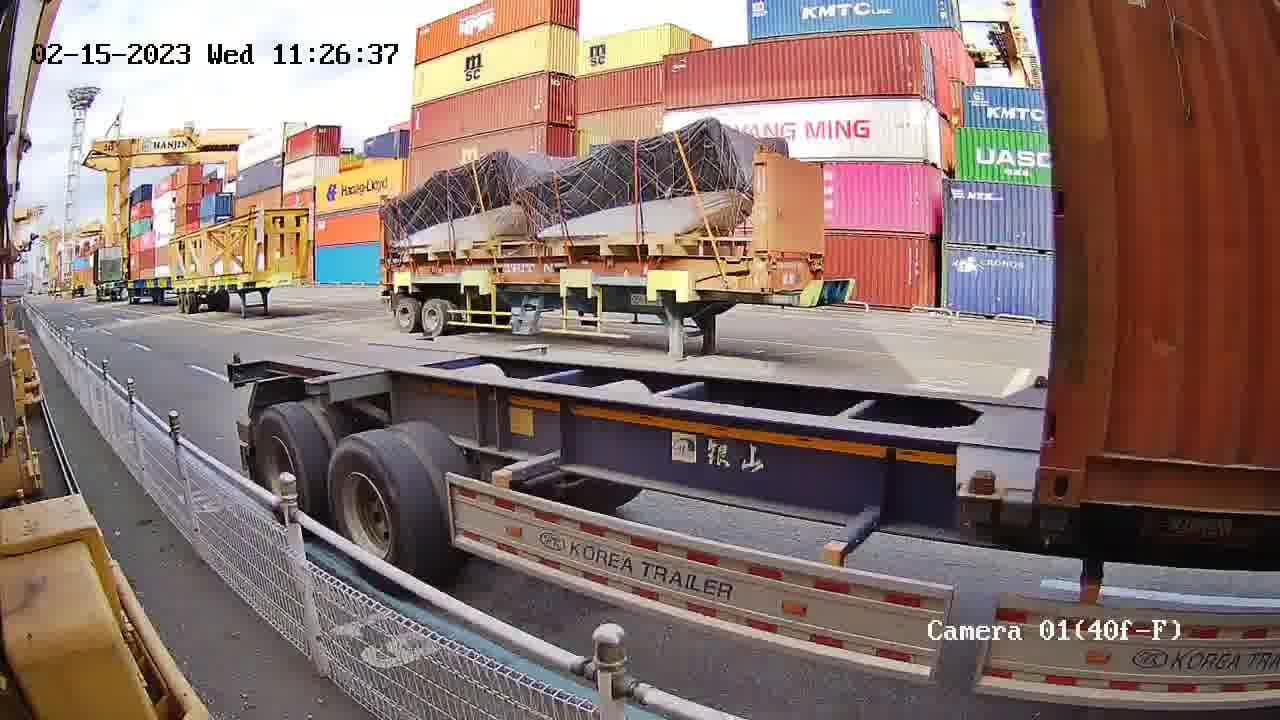Cone: (1036, 506, 1080, 545), (224, 349, 249, 388)
Hole_L: (1036, 421, 1146, 506)
Tire: (326, 437, 413, 571), (254, 408, 313, 517)
